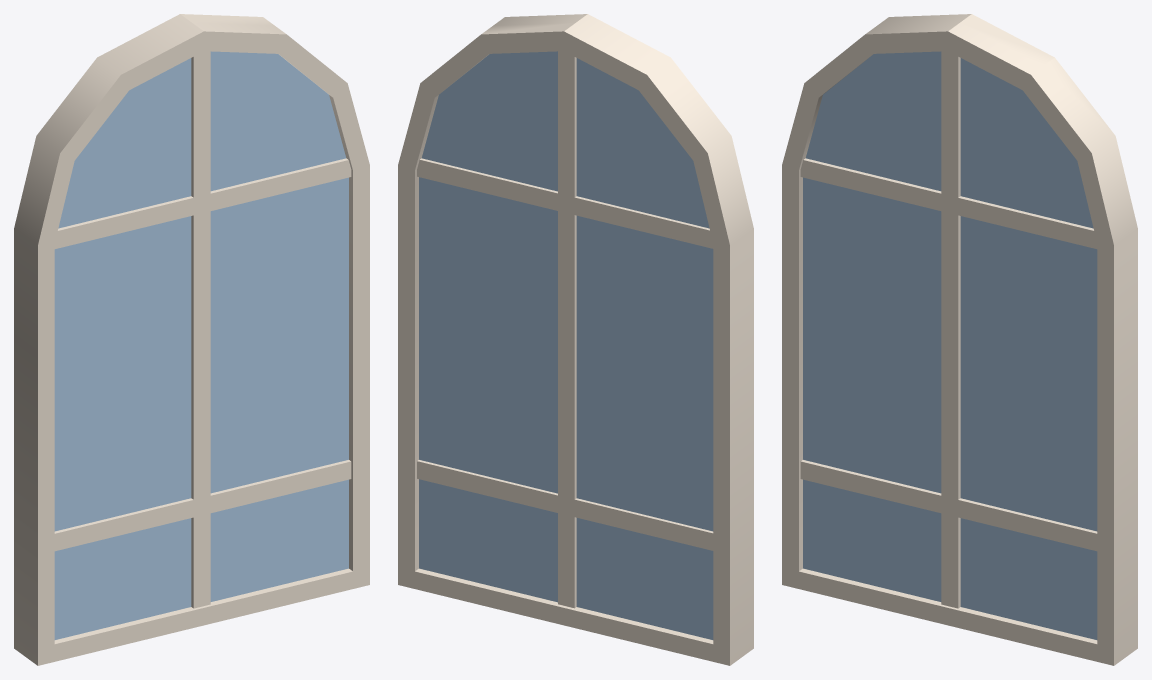
The model's file is window-round.glb.
3 views of the same model, side by side, from view 1: azimuth 30°, elevation 25°; view 2: azimuth 150°, elevation 25°; view 3: azimuth 330°, elevation 25° (orthographic).
Parts seen in each view (by area): view 1: Window_Round3; view 2: Window_Round3; view 3: Window_Round3.
Boxes of the visible parts, box(x1,y1,x2,y2) form: Window_Round3: box(14, 14, 369, 665); Window_Round3: box(398, 14, 753, 665); Window_Round3: box(782, 14, 1137, 665).
Bounding box in the file's own units: 0.9063 × 1.55 × 0.1126.
